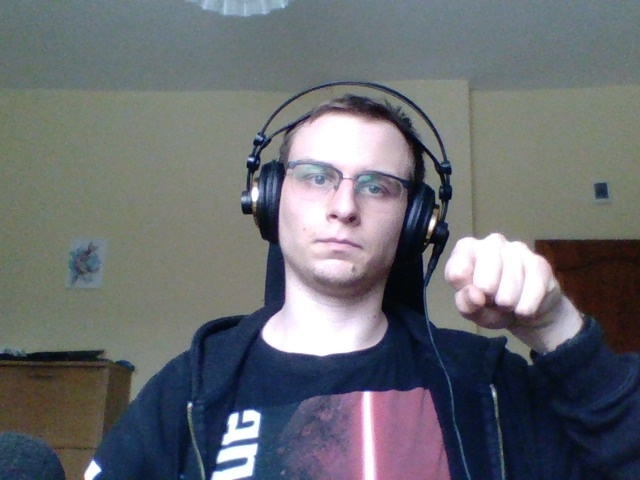yes: (431, 214, 587, 349)
